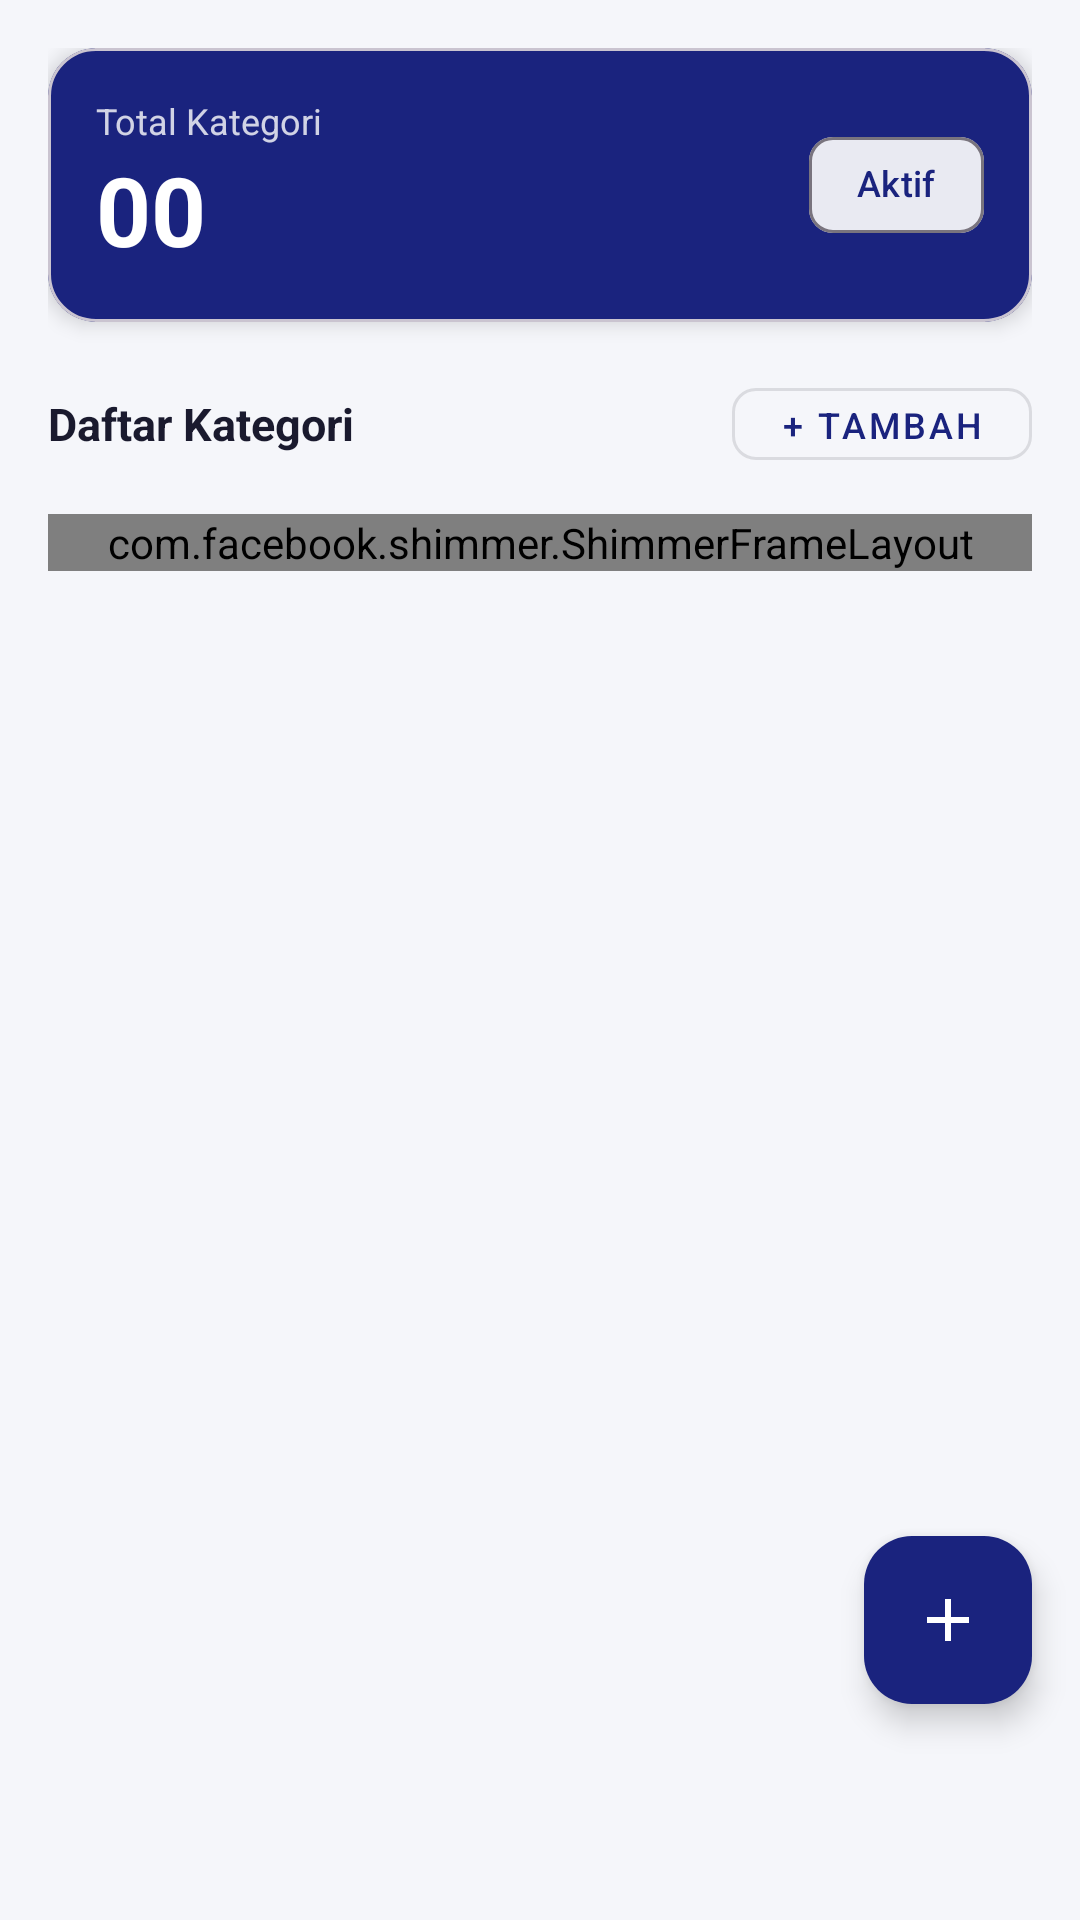

Screen size 1080×1920. Icon name, then its center in pixels as (x,y):
Tambah Kategori: (948,1620)
